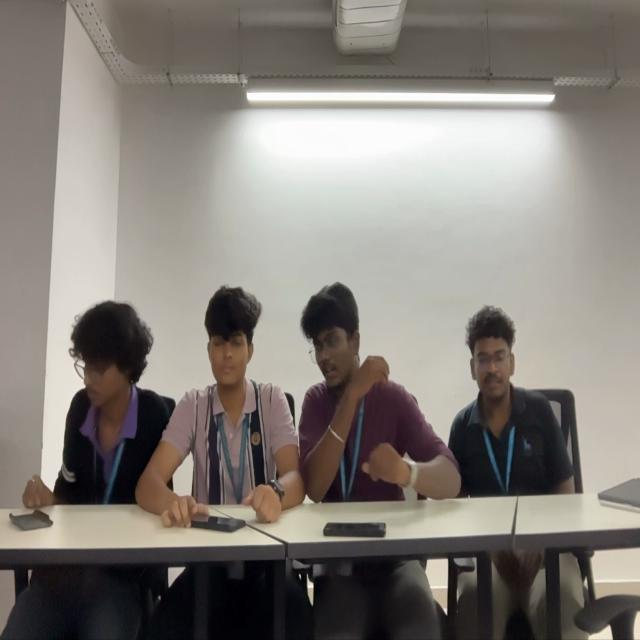Isolated: (461, 303, 573, 492)
socializing: (29, 290, 457, 513)
